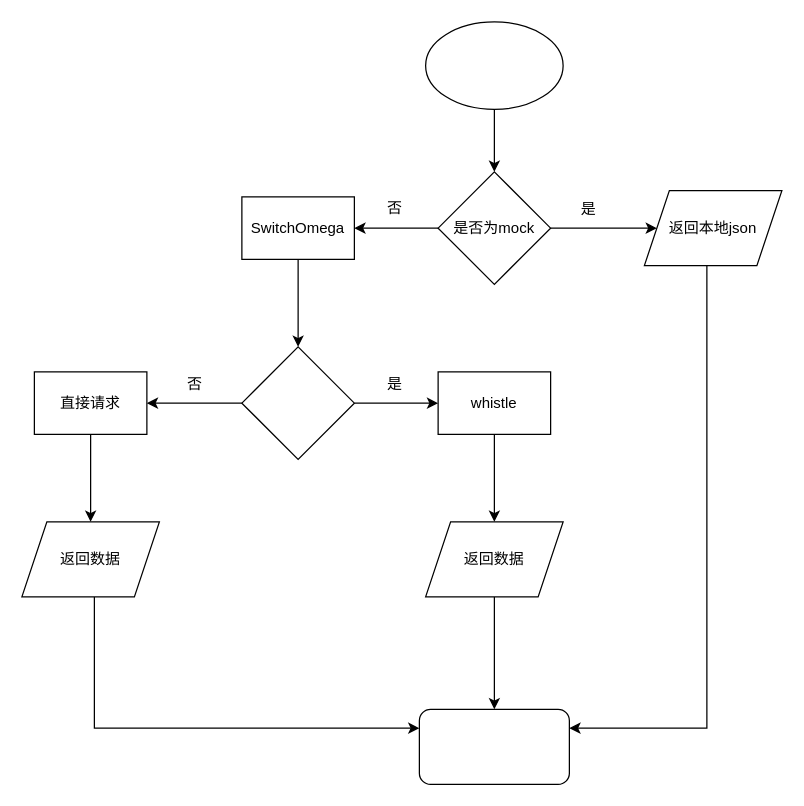
The diagram is 804 pixels wide and 806 high, and some of its shapes have lost their labels. The centre of each missing label's shape, as x and y in pixels:
"wxpay.oa.com？" goes at pixel 297 402.
"发起请求" goes at pixel 493 65.
"结束" goes at pixel 493 746.
